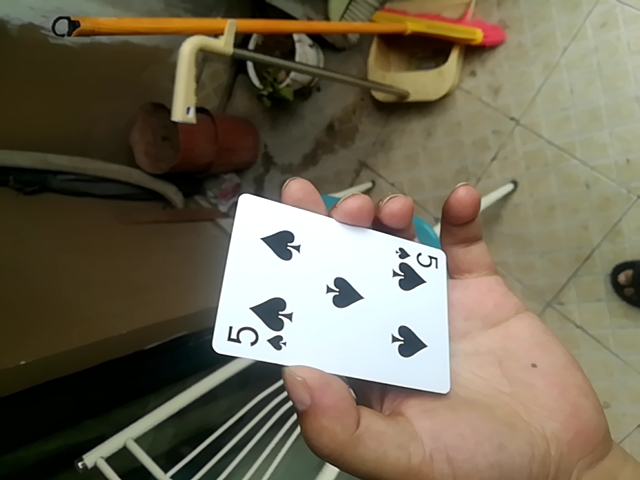ht 5: (210, 188, 448, 397)
